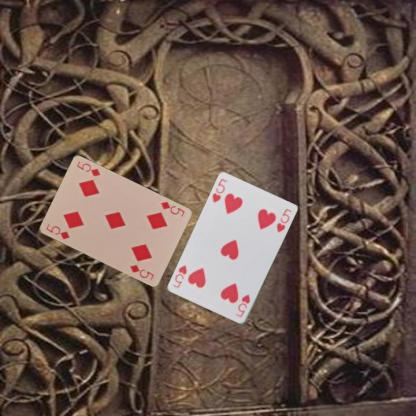5d: (43, 221, 72, 241), (157, 199, 186, 218)
5h: (233, 292, 252, 319), (210, 176, 228, 204)
